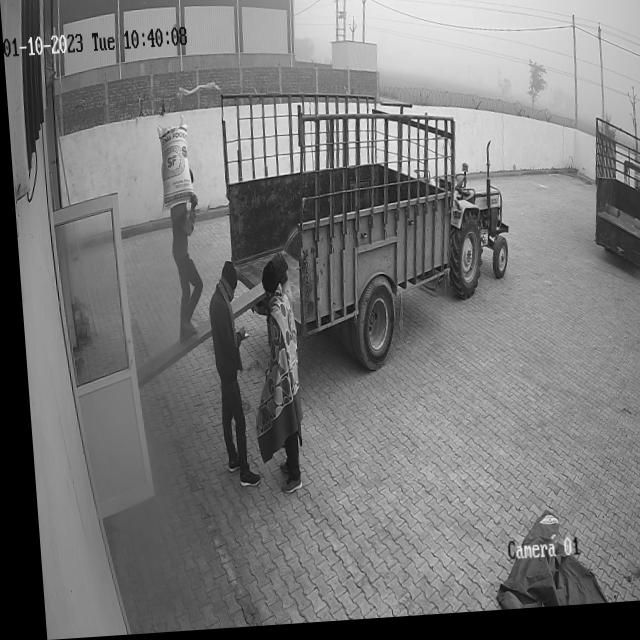sack: (153, 120, 192, 214)
